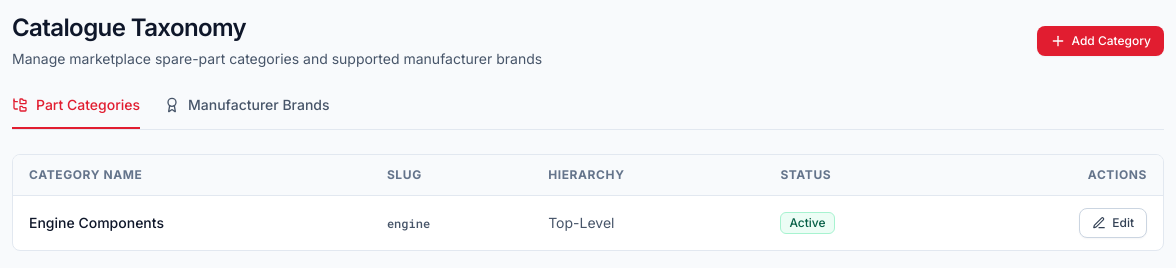
MOD-02 Seller & Administrator Workstations Tests › Renders administrator catalogue management tabs for categories and brands
The width and height of the screenshot is (1176, 268).
Expected: the text "Engine Components" is shown, [13,195,371,250]
Expected: the text "Top-Level" is shown, [532,195,764,250]
# Switch to Brands tab
Click the button "Manufacturer Brands". click: (247, 112)
box: [164,95,330,129]
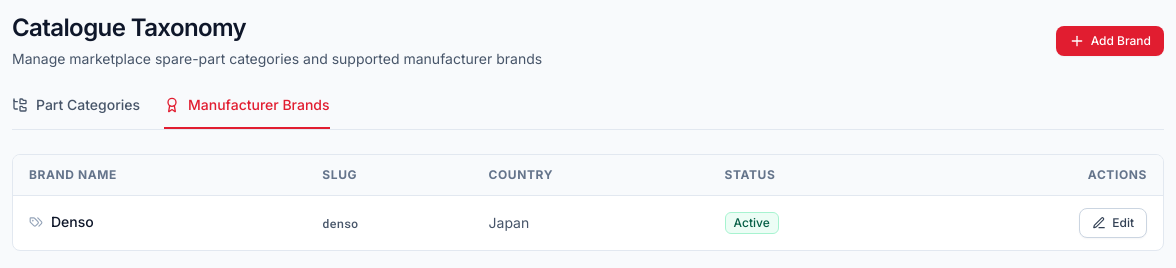
Now the text "Denso" is shown, box [29,212,94,232]
Now the text "Japan" is shown, box [472,195,708,250]
